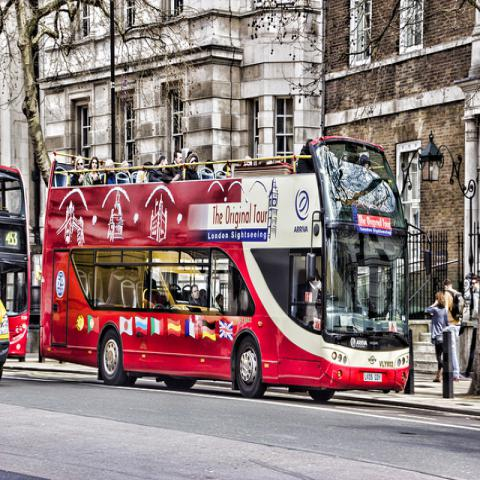bus: (40, 134, 434, 408), (0, 168, 30, 360)
